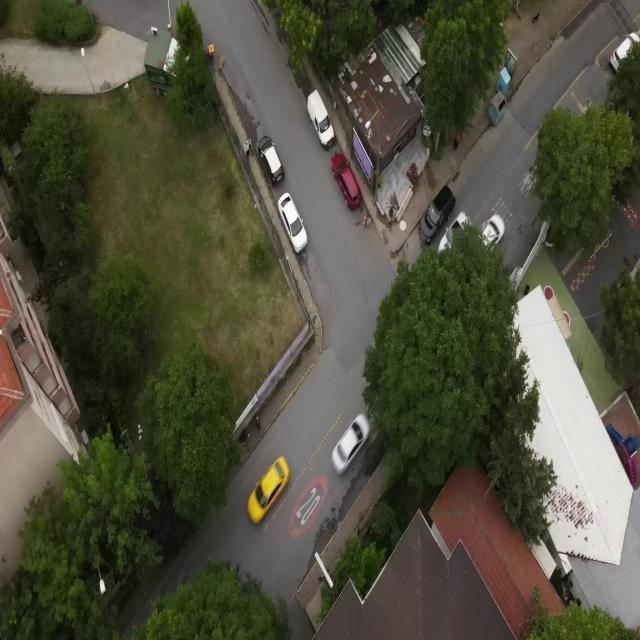p3rson: (453, 129, 462, 151), (242, 428, 250, 445), (244, 142, 250, 160), (247, 140, 253, 157), (256, 416, 261, 431)
